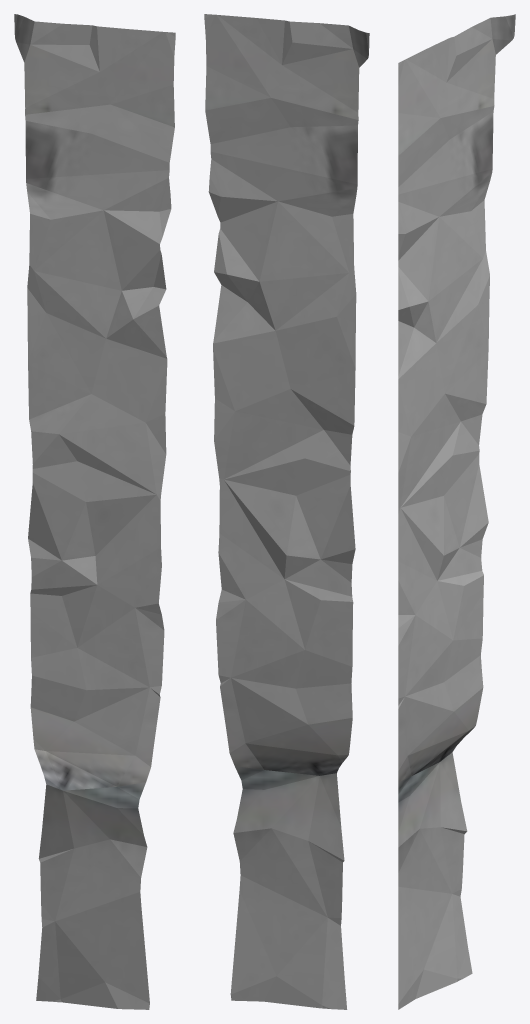
3 renders of one model, left to right at view 1: azimuth 30°, elevation 25°; view 2: azimuth 210°, elevation 25°; view 3: azimuth 270°, elevation 25°, orthographic. The views are drawn at different scales.
Bounding box in the file's own units: 0.184 × 1.67 × 0.186.
Materials: 1 (1 with a texture image).
